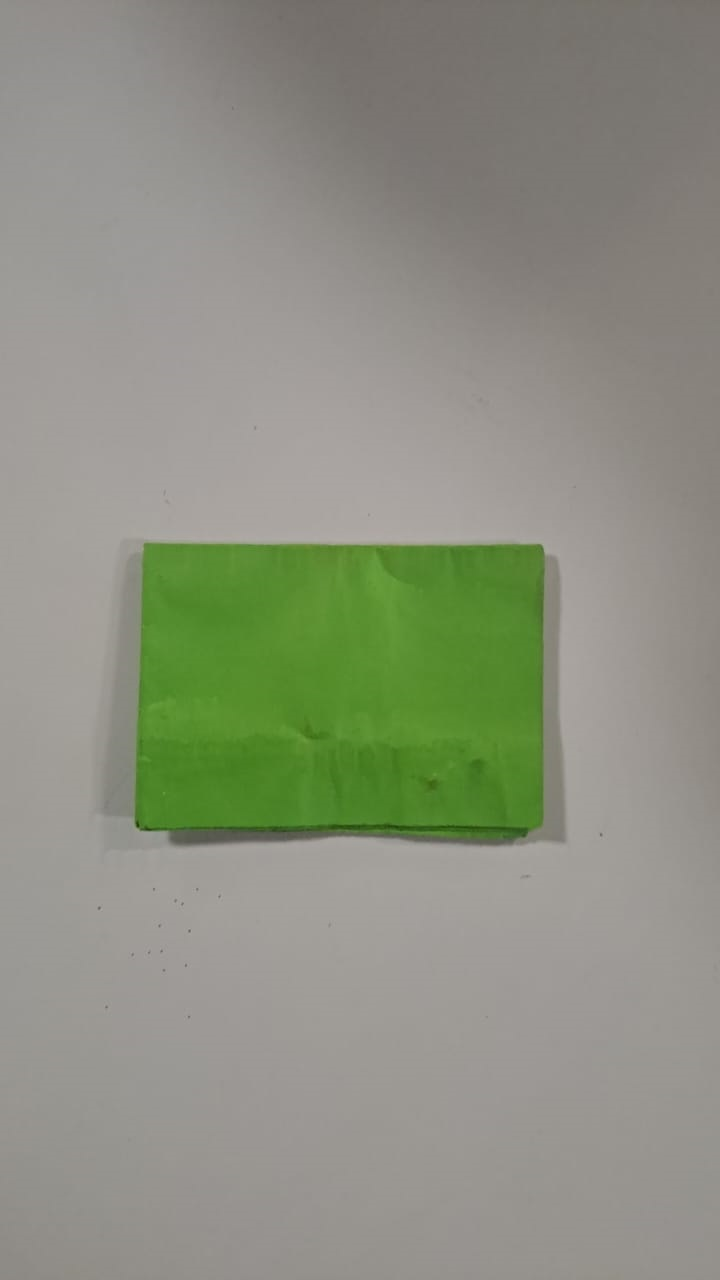Target: (136, 541, 547, 833)
